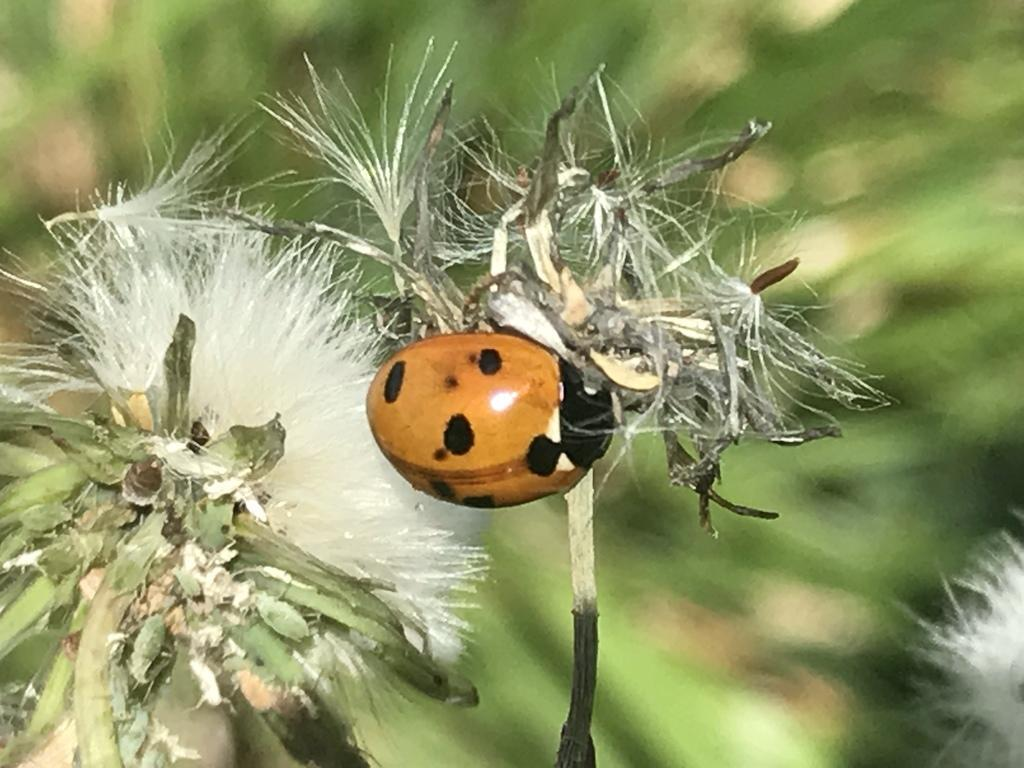ladybug: (361, 311, 623, 515)
